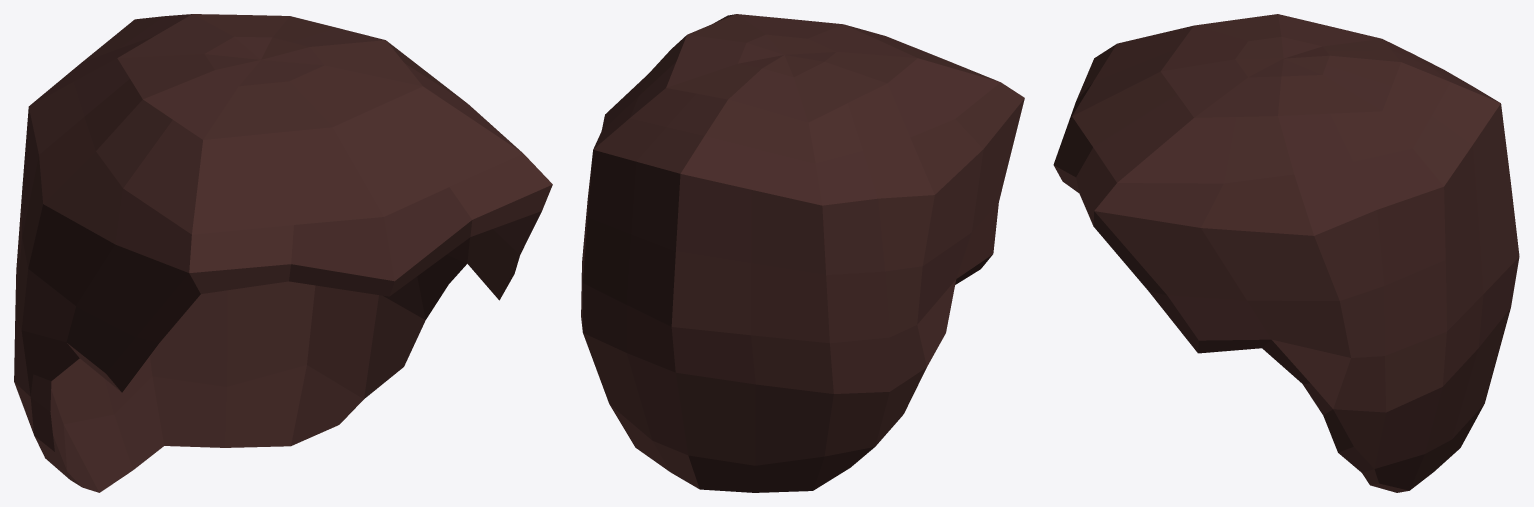
File: hair-01.fbx
3 renders of one model, left to right at view 1: azimuth 30°, elevation 25°; view 2: azimuth 150°, elevation 25°; view 3: azimuth 270°, elevation 25°, orthographic. The views are drawn at different scales.
Parts seen in each view (by area): view 1: hair.01; view 2: hair.01; view 3: hair.01.
Boxes of the visible parts, bbox=[...] form: hair.01: bbox=[14, 14, 552, 492]; hair.01: bbox=[581, 14, 1024, 492]; hair.01: bbox=[1053, 14, 1519, 492].
Size of the model in its own units: 33.3 by 34.75 by 36.84.
